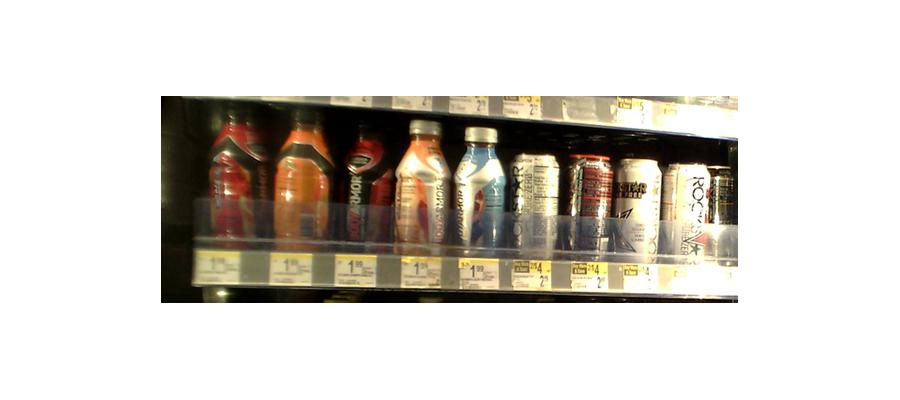bottle: (208, 98, 268, 243), (272, 109, 334, 245), (392, 115, 448, 254), (453, 123, 505, 257), (511, 148, 561, 260), (341, 128, 385, 246), (615, 153, 662, 263), (568, 151, 613, 258), (668, 164, 710, 265)
